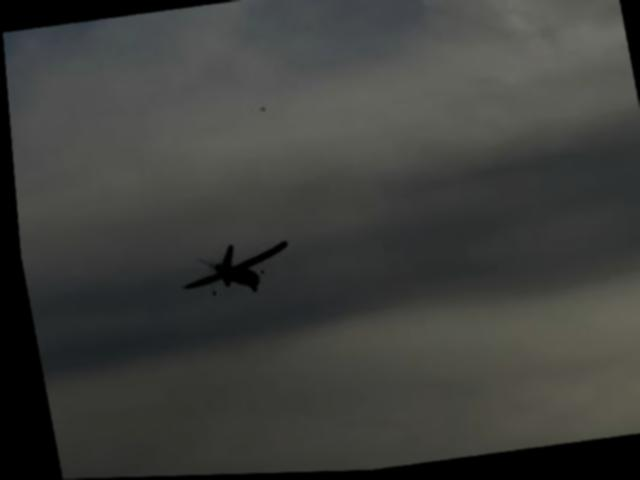uav: (162, 226, 296, 314)
